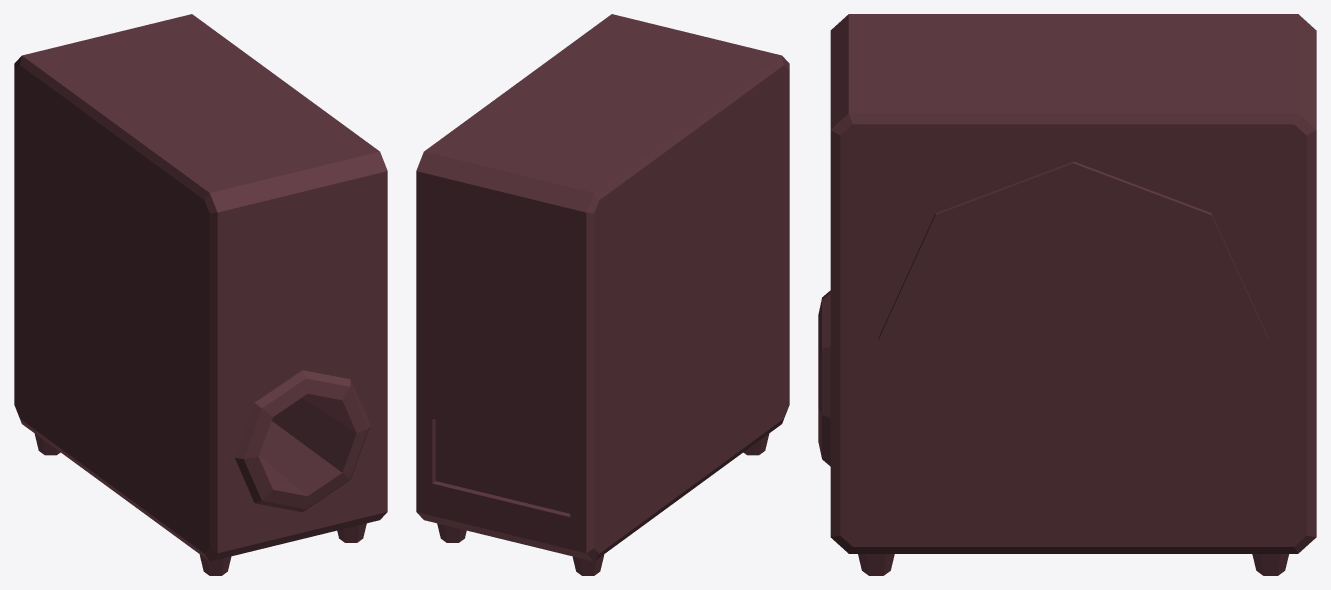
The model's file is subwoofer.fbx.
The picture shows the model from 3 angles, left to right: view 1: azimuth 30°, elevation 25°; view 2: azimuth 150°, elevation 25°; view 3: azimuth 270°, elevation 25°; orthographic projection. The views are drawn at different scales.
Parts seen in each view (by area): view 1: subwoofer; view 2: subwoofer; view 3: subwoofer.
Boxes of the visible parts, x1,y1,x2,y2 form: subwoofer: [14, 14, 387, 575]; subwoofer: [416, 14, 789, 575]; subwoofer: [818, 14, 1316, 575].
Bounding box in the file's own units: 0.2054 × 0.4245 × 0.41.
